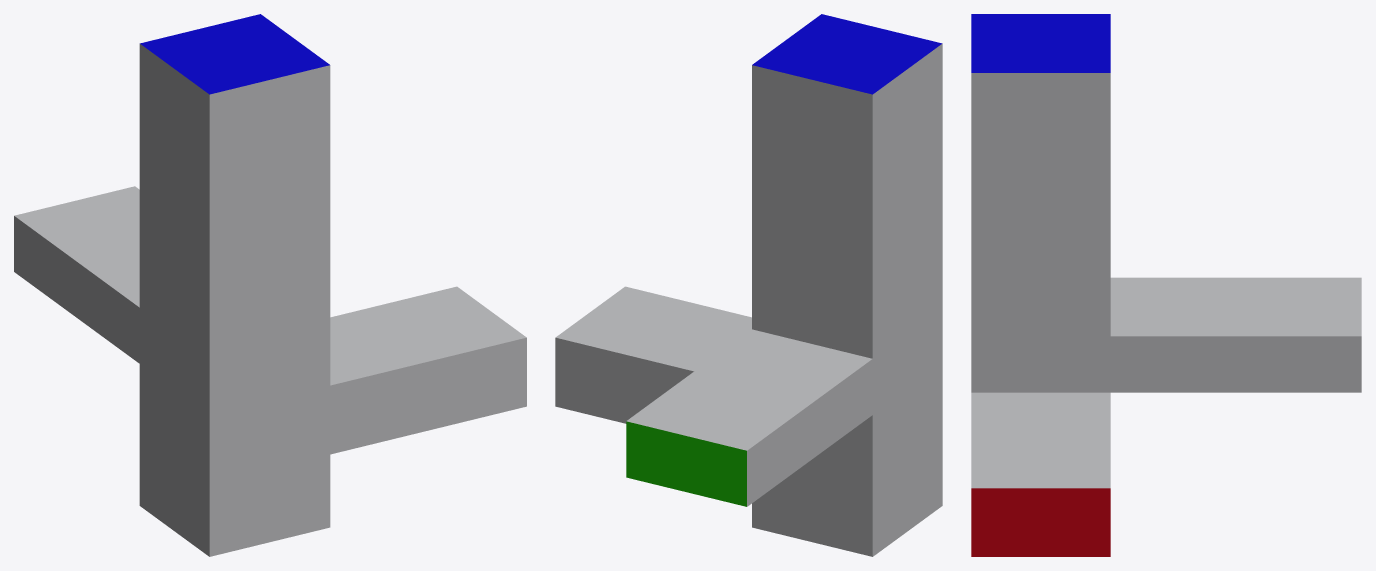
File: untitled - no Apply.fbx
3 renders of one model, left to right at view 1: azimuth 30°, elevation 25°; view 2: azimuth 150°, elevation 25°; view 3: azimuth 270°, elevation 25°, orthographic.
Parts seen in each view (by area): view 1: Plane; view 2: Plane; view 3: Plane.
Boxes of the visible parts, x1=… form: Plane: x1=14, y1=14, x2=526, y2=556; Plane: x1=555, y1=14, x2=942, y2=556; Plane: x1=971, y1=14, x2=1361, y2=556.
Bounding box in the file's own units: 5.25 × 7.31 × 5.6.
